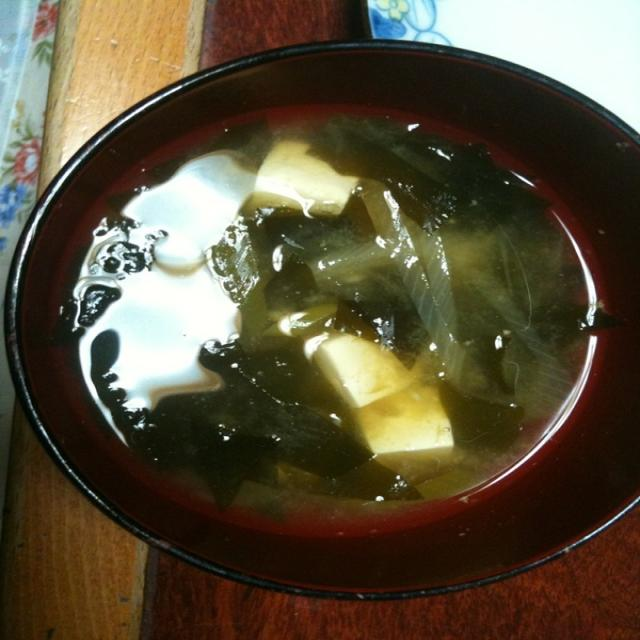汤锅炖物: (35, 45, 617, 602)
